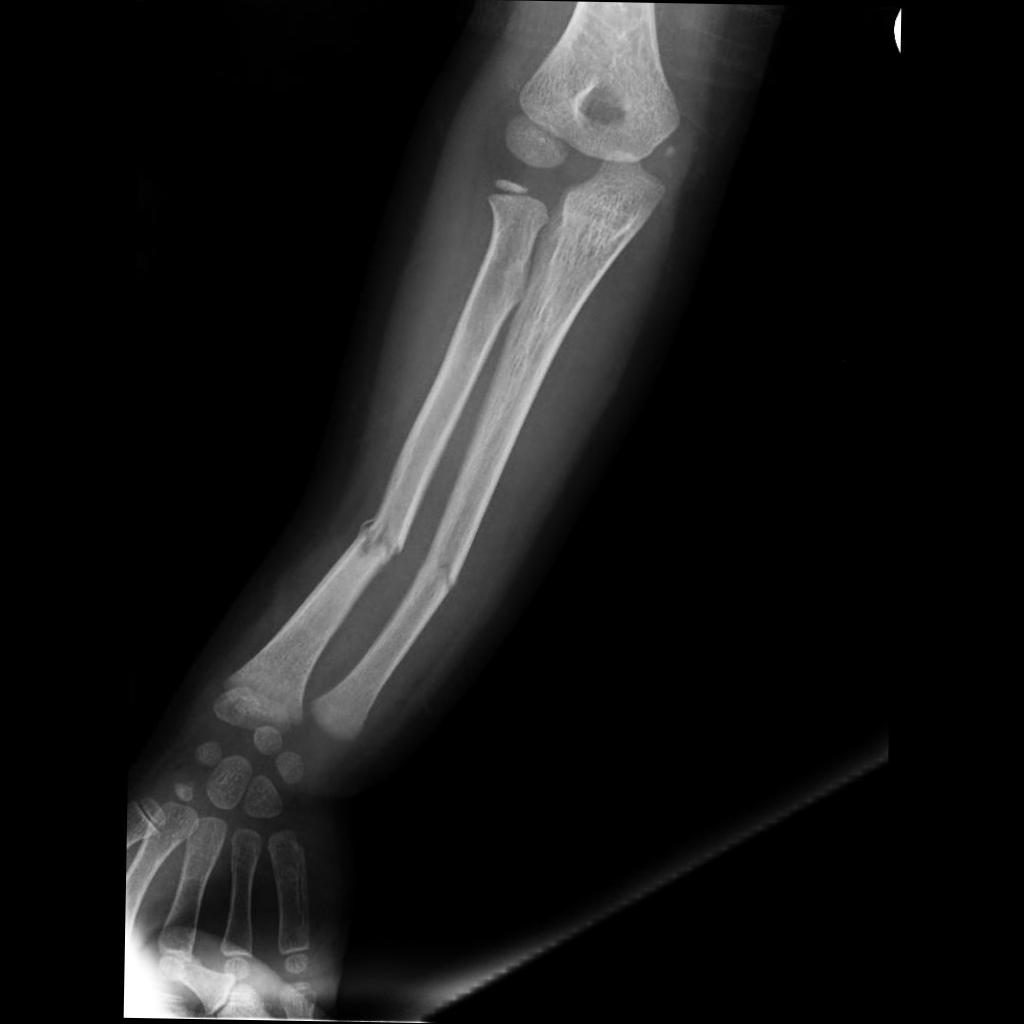fracture: (420, 544, 464, 604), (355, 515, 407, 564)
